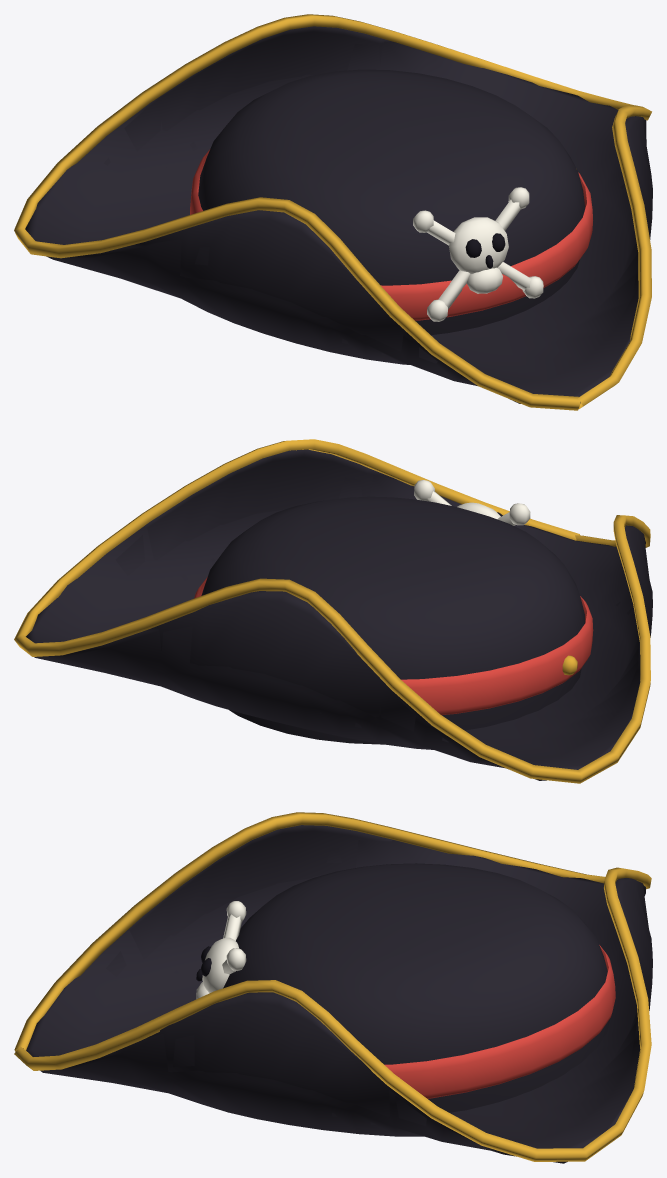
The model's file is hat_pirate.glb.
3 renders of one model, top to bottom at view 1: azimuth 30°, elevation 25°; view 2: azimuth 150°, elevation 25°; view 3: azimuth 270°, elevation 25°, orthographic.
Visible parts, largest first — view 1: HatPirate; view 2: HatPirate; view 3: HatPirate.
Boxes of the visible parts, x1,y1,x2,y2 form: HatPirate: (14,14,652,410); HatPirate: (14,439,652,783); HatPirate: (14,812,652,1163).
Size of the model in its own units: 0.929 by 0.2717 by 0.859.
